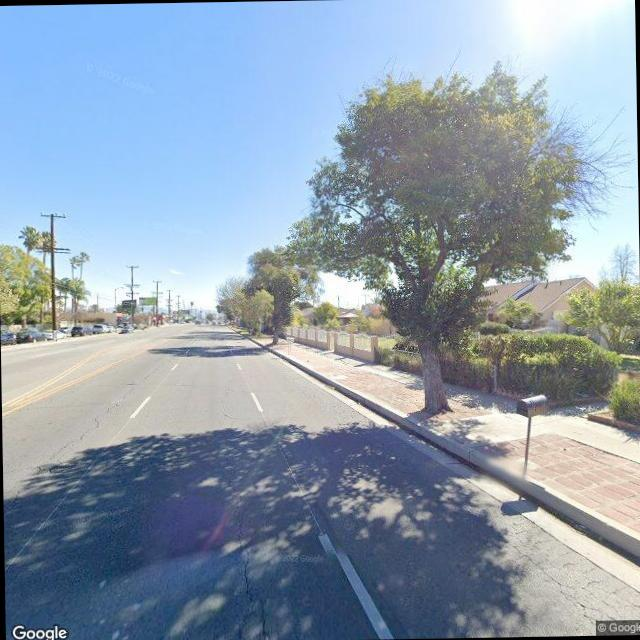crack: (487, 502, 640, 624)
pothole: (7, 369, 159, 496), (215, 453, 264, 640)
